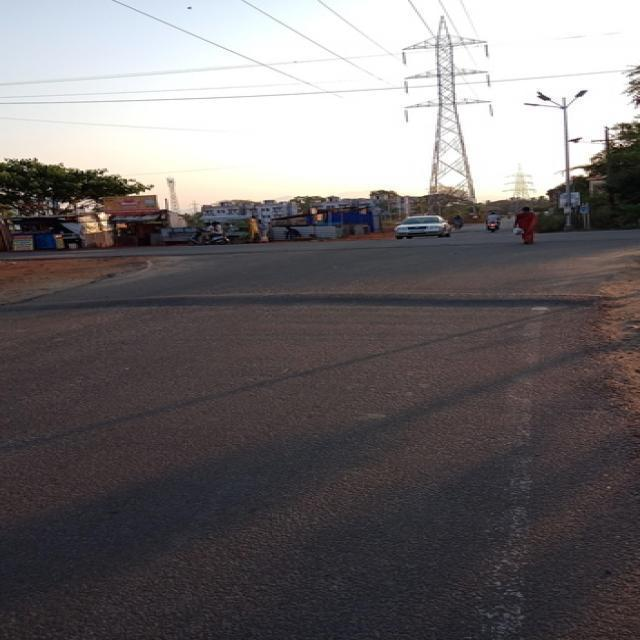NonMarked Bump: (28, 285, 585, 318)
